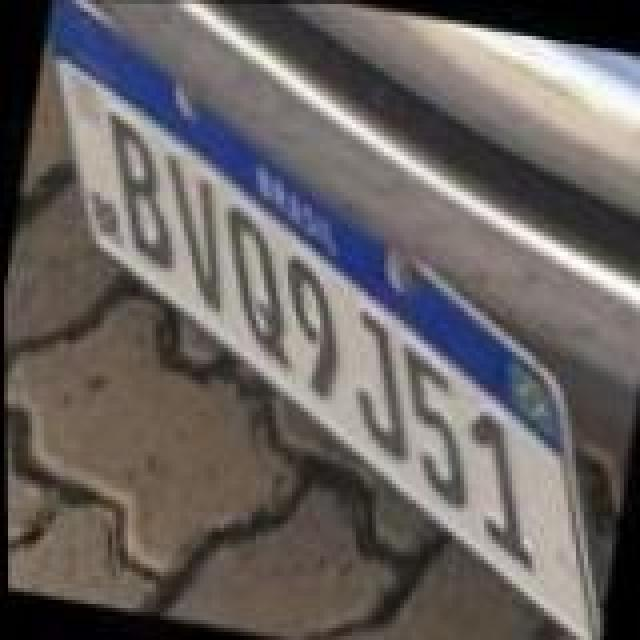1: (444, 408, 556, 572)
5: (376, 340, 492, 508)
9: (264, 248, 352, 396)
B: (82, 106, 198, 270)
J: (330, 304, 426, 460)
Q: (200, 202, 320, 374)
V: (138, 150, 246, 314)
